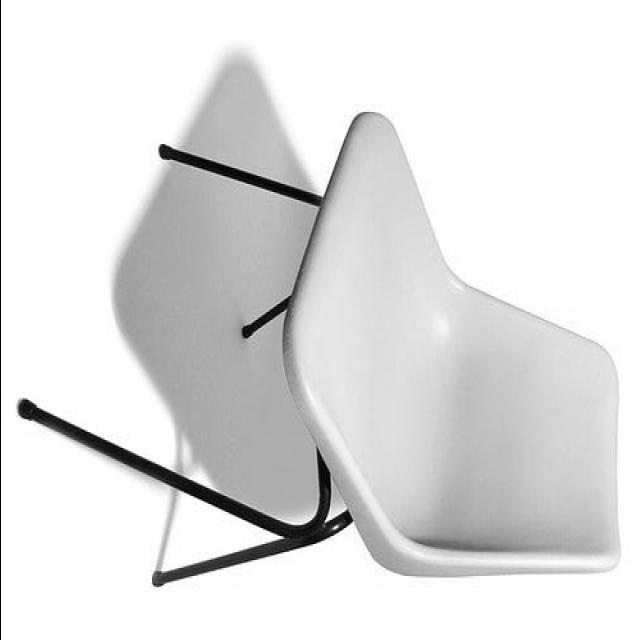chair: (17, 104, 618, 588)
